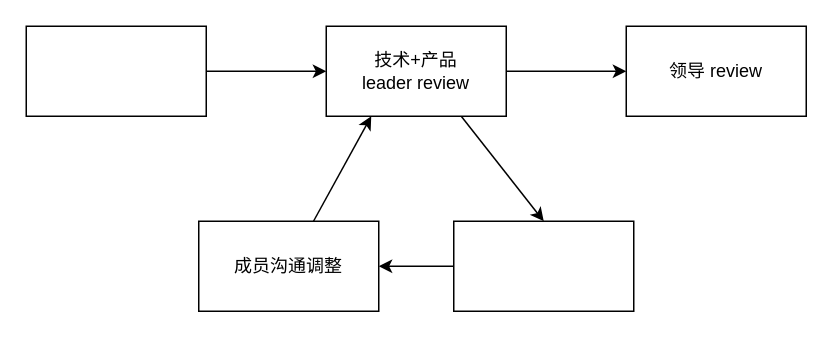
Some shapes in this 833 by 338 pixel diagram are drawn without their labels. Here are the shapes that lost their labels. From the top down, the centre of each, then its label:
[115,70]: 成员定制OKR
[543,265]: 技术+产品 评价难度系数
